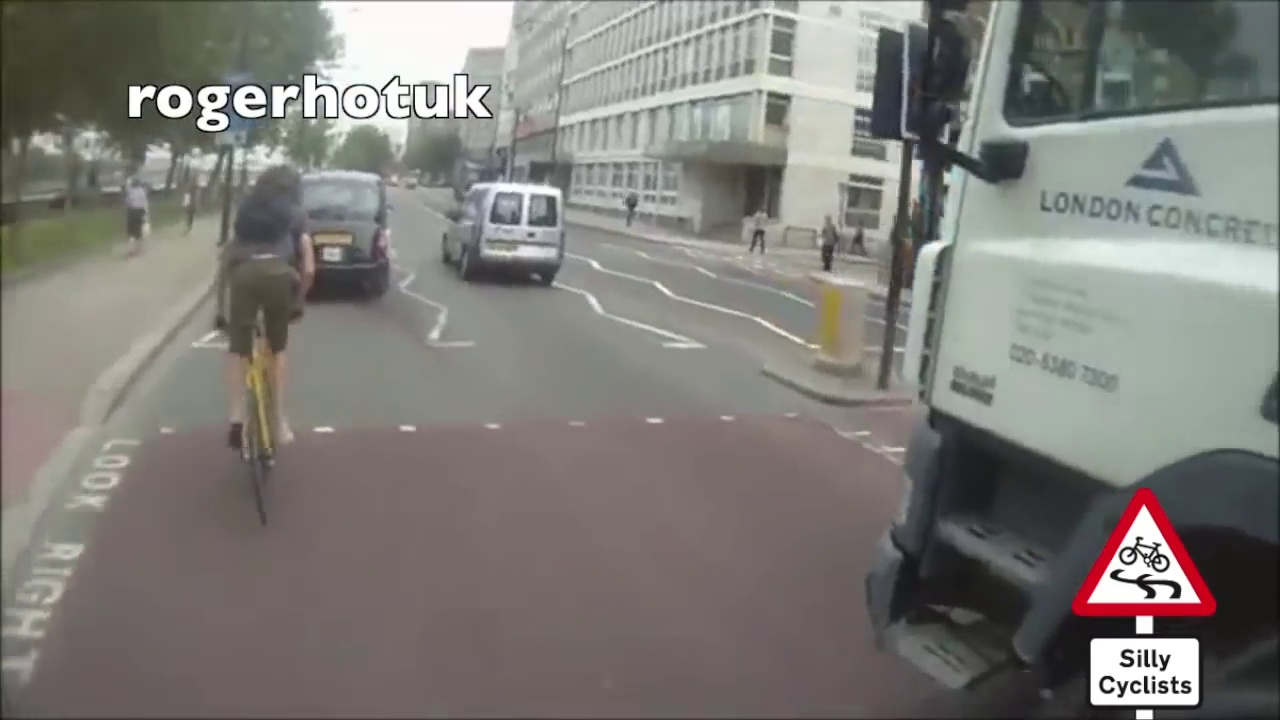cyclist_back: (215, 157, 322, 539)
